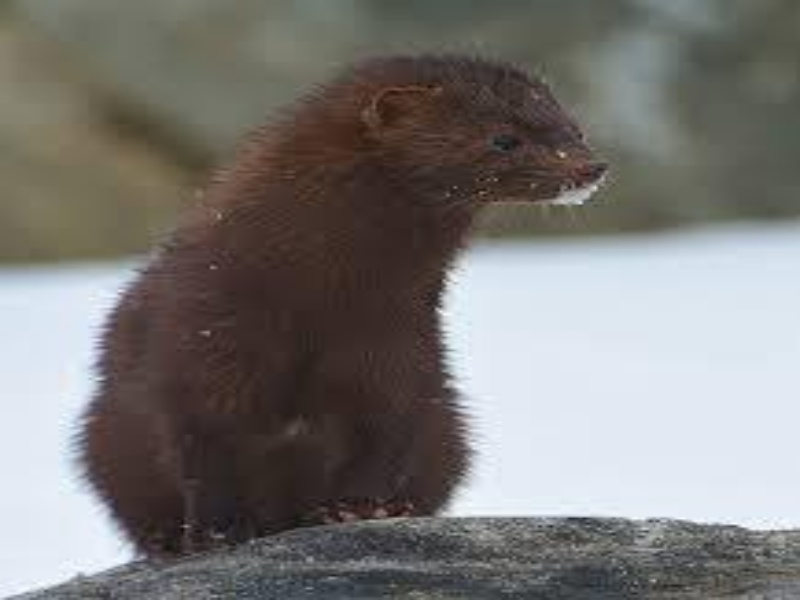minkish: (72, 51, 612, 566)
